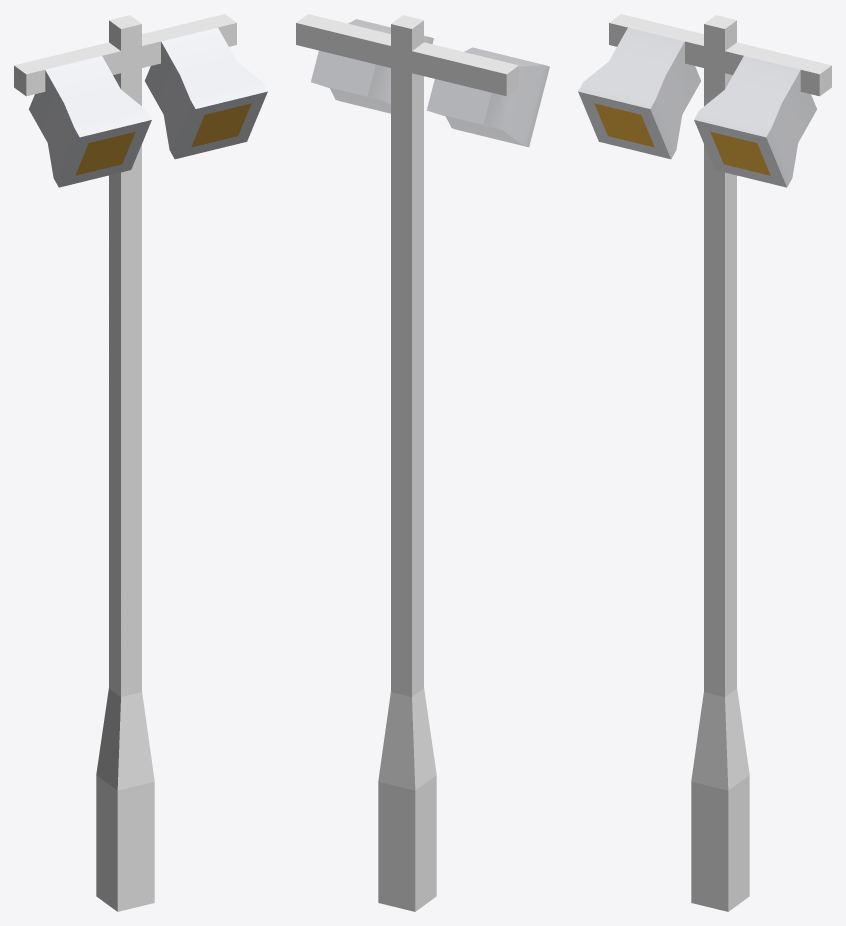
Rendered from lightPost_exclusive.glb.
3 views of the same model, side by side, from view 1: azimuth 30°, elevation 25°; view 2: azimuth 150°, elevation 25°; view 3: azimuth 330°, elevation 25° (orthographic).
Parts seen in each view (by area): view 1: lightPost_exclusive(Clone); view 2: lightPost_exclusive(Clone); view 3: lightPost_exclusive(Clone).
Part boxes in pixels (left/top/right/bottom): lightPost_exclusive(Clone): left=14, top=14, right=267, bottom=911; lightPost_exclusive(Clone): left=296, top=14, right=549, bottom=911; lightPost_exclusive(Clone): left=578, top=14, right=831, bottom=911.
Bounding box in the file's own units: 0.2 × 0.7957 × 0.0971.
